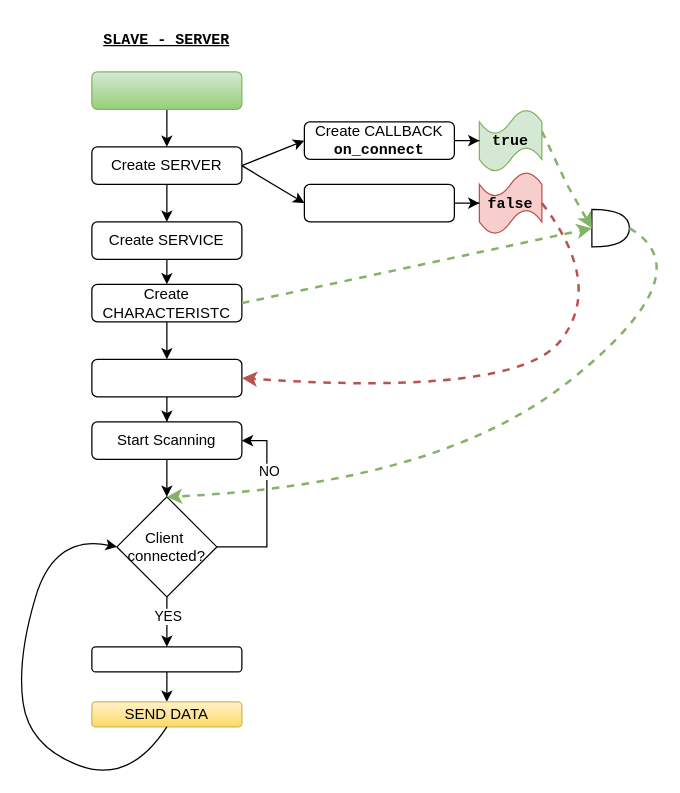
Some shapes in this 680 by 793 pixel diagram are drawn without their labels. The shapes that lost their labels are listed below. From the top down, each one's box as (x1, y1, x2, y2) in pixels, then its label:
(91, 71, 242, 109): START BLE
(303, 183, 454, 222): Create CALLBACK on_disconnect
(91, 358, 242, 397): Start Advertise
(91, 646, 242, 672): PACK DATA
